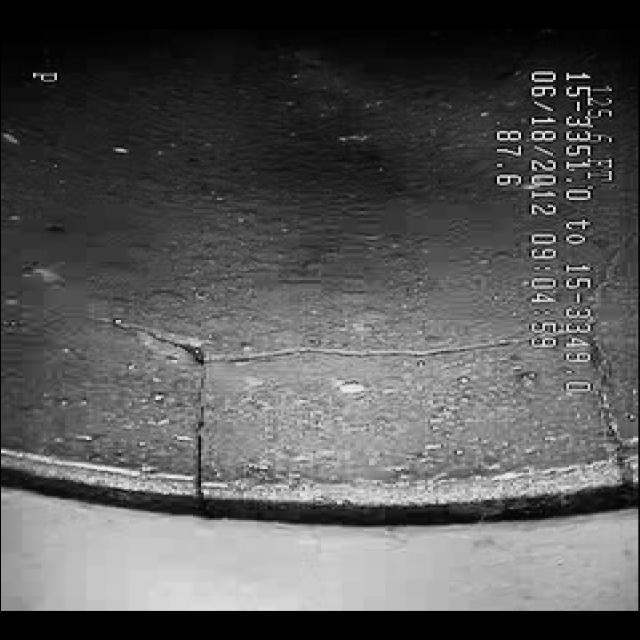Crack: (103, 318, 490, 464)
